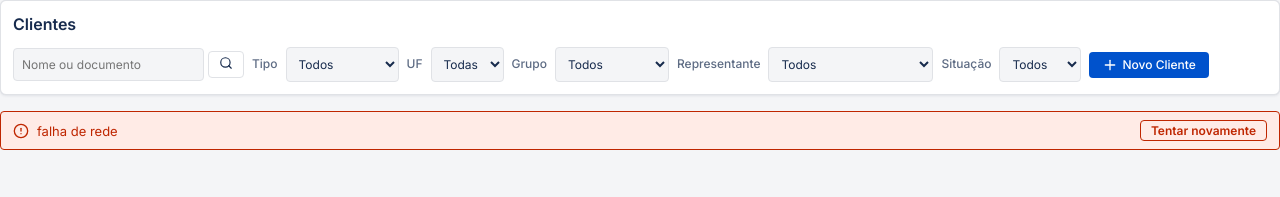
Test: Clientes › mostra o vazio conforme o filtro e o erro com nova tentativa
Expected: the text "falha de rede" is shown, 37,122 -> 118,140
Click the button "Tentar novamente". click: (1203, 131)
box: 1140,120 -> 1267,141
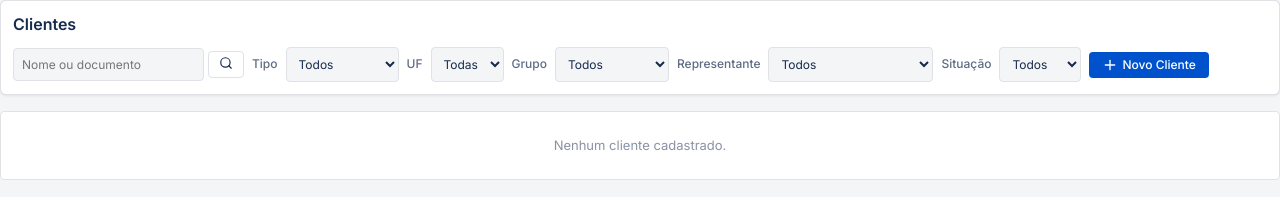
Now the text "Nenhum cliente cadastrado." is shown, box 0,111 -> 1279,180
Select "Loja" in the dropdown labelled "Tipo". click: (342, 65)
box: 286,47 -> 398,82
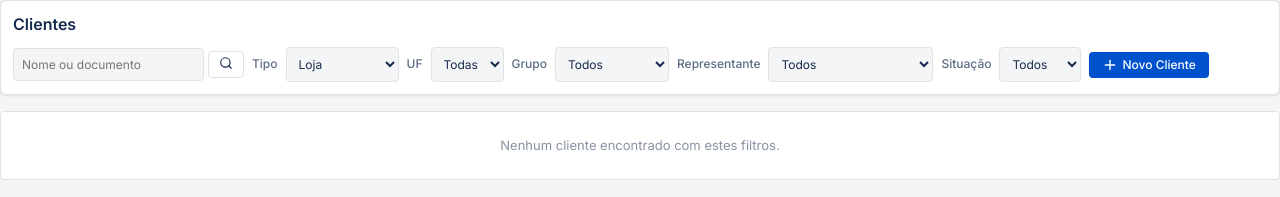
Now the text "Nenhum cliente encontrado com estes filtros." is shown, box 0,111 -> 1279,180
